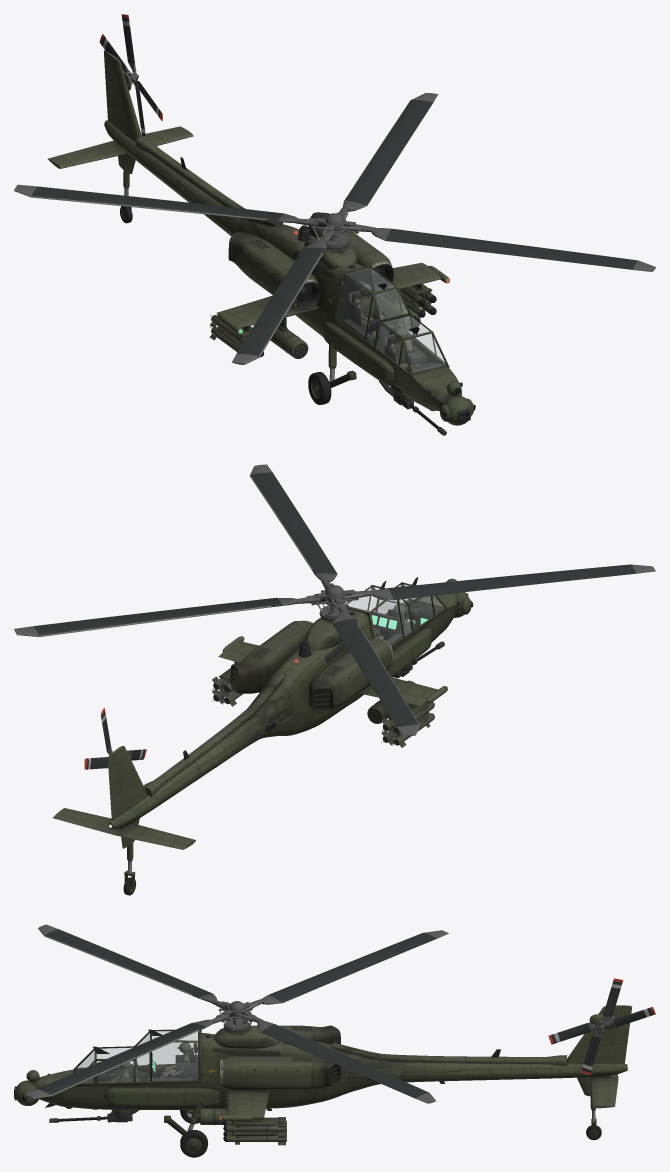
File: heli.glb
3 views of the same model, one above another, from view 1: azimuth 30°, elevation 25°; view 2: azimuth 150°, elevation 25°; view 3: azimuth 270°, elevation 25° (orthographic). The views are drawn at different scales.
Visible parts, largest first — view 1: rumpf, rotor_kopf, technik, scheiben, heck_blaetter, metallteile, pilot_hinten; view 2: rumpf, rotor_kopf, technik, scheiben, heck_blaetter; view 3: rumpf, rotor_kopf, technik, scheiben, heck_blaetter, metallteile, pilot_hinten.
Part boxes in pixels (<box>): rumpf: <box>48,50,473,425</box>; rotor_kopf: <box>14,93,655,364</box>; technik: <box>120,157,475,422</box>; scheiben: <box>337,268,445,372</box>; heck_blaetter: <box>99,14,162,136</box>; metallteile: <box>124,188,475,435</box>; pilot_hinten: <box>353,283,407,347</box>; rumpf: <box>53,578,471,849</box>; rotor_kopf: <box>14,464,655,735</box>; technik: <box>123,577,473,895</box>; scheiben: <box>347,584,444,644</box>; heck_blaetter: <box>84,708,146,769</box>; rumpf: <box>16,1005,631,1124</box>; rotor_kopf: <box>25,924,448,1103</box>; technik: <box>14,1021,601,1157</box>; scheiben: <box>76,1031,198,1082</box>; heck_blaetter: <box>548,978,655,1075</box>; metallteile: <box>14,1019,595,1131</box>; pilot_hinten: <box>119,1042,191,1078</box>.
Size of the model in its own units: 10.87 by 4.72 by 16.44.
10 materials, 2 textured.
